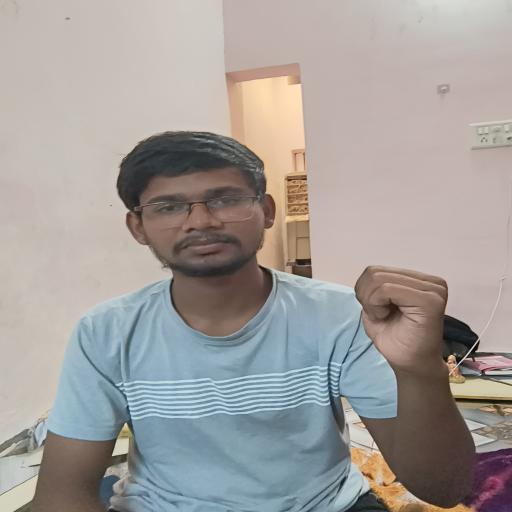wait: (337, 252, 489, 389)
